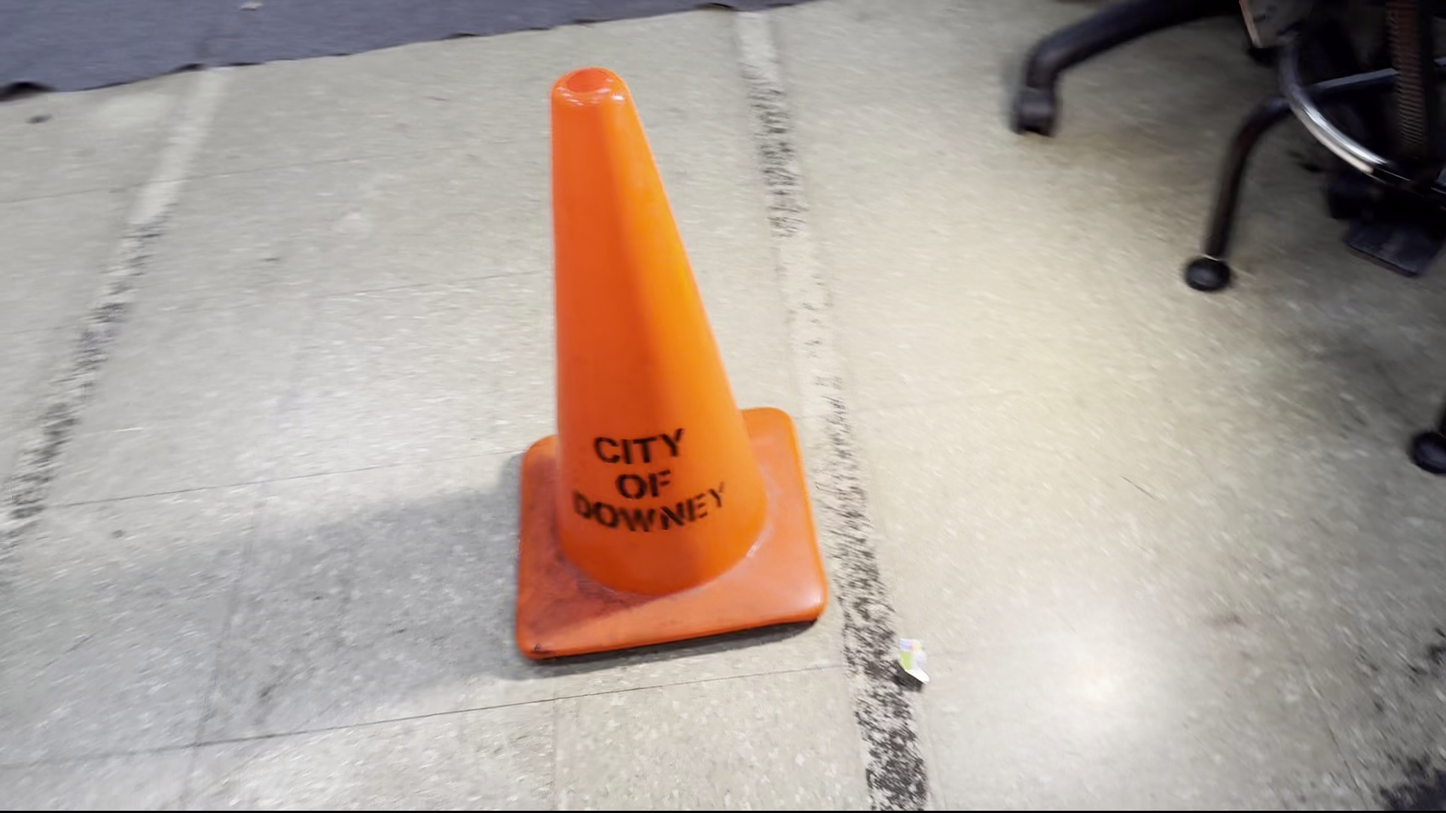traffic_cone: (514, 65, 829, 661)
